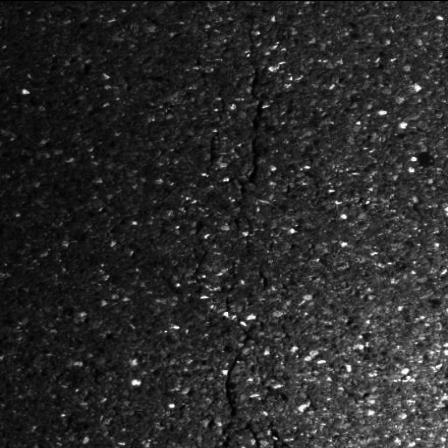crack: (211, 1, 286, 209), (213, 252, 265, 448)
